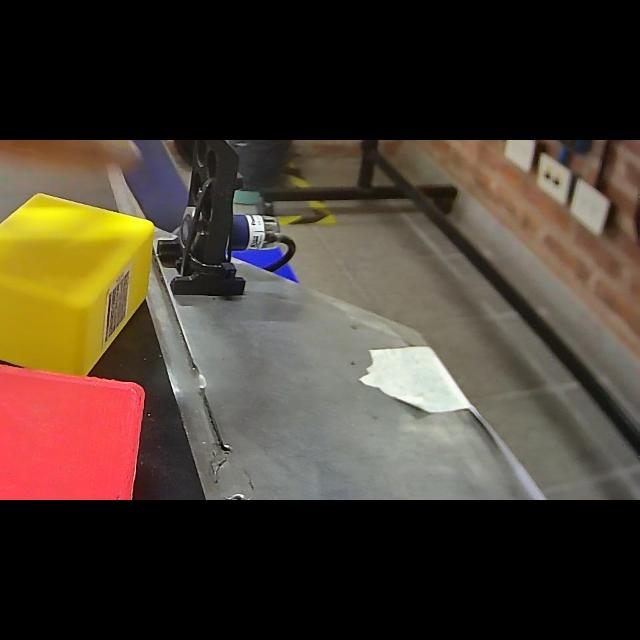redBox: (0, 351, 160, 499)
yellowBox: (0, 185, 162, 385)
